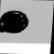correct: (0, 8, 29, 36)
